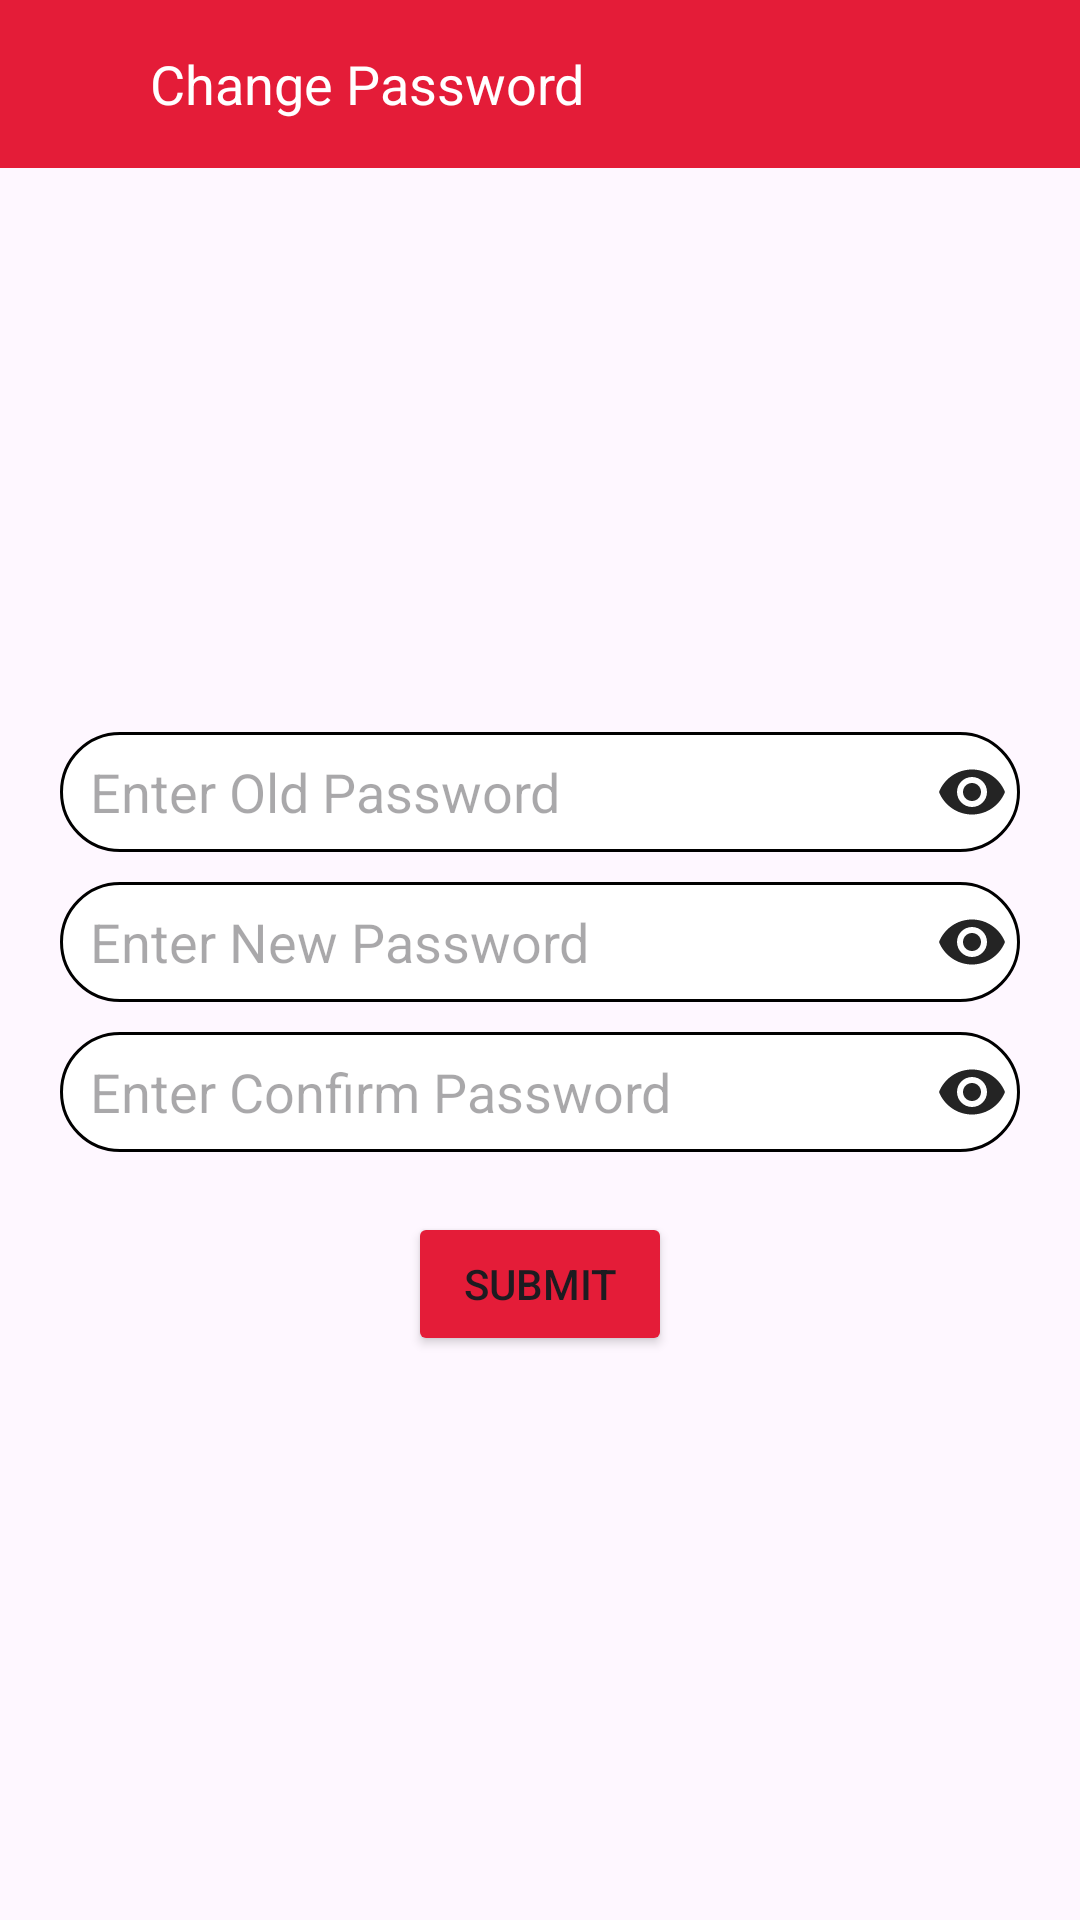

Point at icon controls on the screen. Image size 1080w x 1920h, points as (x,y).
visible: (972,792), (972,942), (972,1092)
